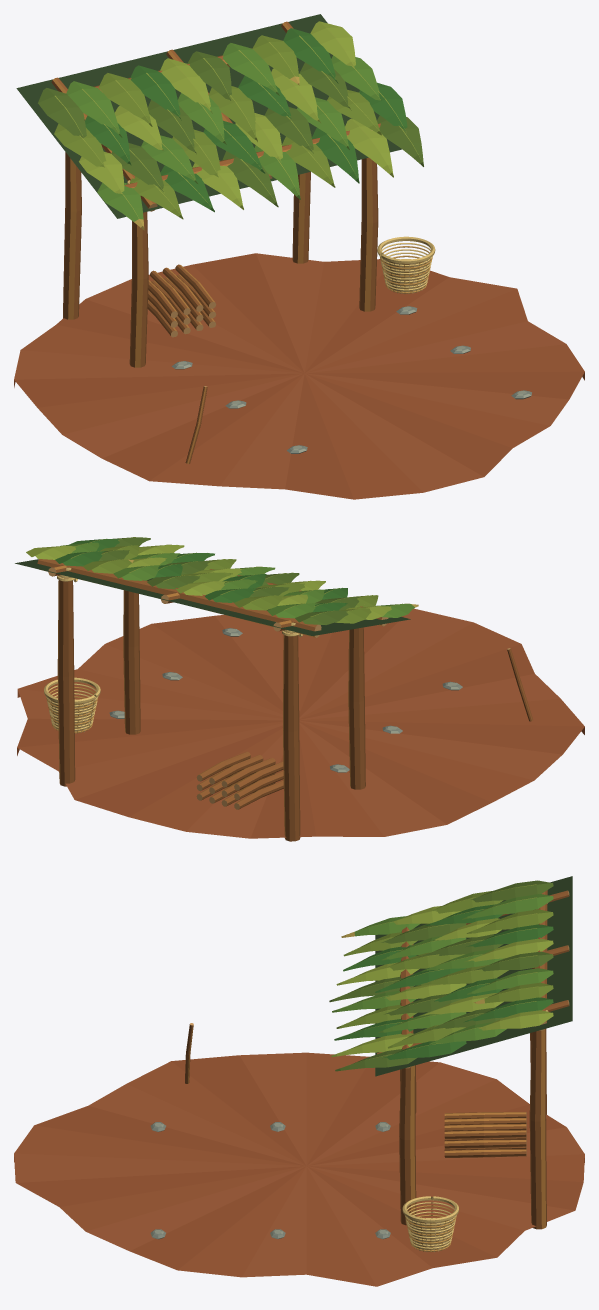
Rendered from centro_agricola_nivel_1.glb.
3 views of the same model, one above another, from view 1: azimuth 30°, elevation 25°; view 2: azimuth 150°, elevation 25°; view 3: azimuth 270°, elevation 25° (orthographic). The views are drawn at different scales.
Visible parts, largest first — view 1: Oca_TerraClara.003, Oca_Terra.003, Oca_TerraEscura.003, Oca_Madeira.006, Oca_FolhaMusgo.012, Oca_FolhaVerde.012, Oca_FolhaJade.027, Oca_FolhaLima.012, Oca_FolhaOliva.012, Oca_Forro.006, Oca_MadeiraClara.006, Oca_Nervuras.012 (+2 smaller); view 2: Oca_Terra.003, Oca_TerraClara.003, Oca_TerraEscura.003, Oca_Madeira.006, Oca_FolhaMusgo.012, Oca_FolhaOliva.012, Oca_FolhaJade.027, Oca_FolhaVerde.012, Oca_FolhaLima.012, Oca_Forro.006, Oca_MadeiraClara.006, Oca_Fibras.006 (+5 smaller); view 3: Oca_Terra.003, Oca_TerraClara.003, Oca_TerraEscura.003, Oca_Madeira.006, Oca_FolhaVerde.012, Oca_FolhaMusgo.012, Oca_FolhaLima.012, Oca_FolhaJade.027, Oca_FolhaOliva.012, Oca_Forro.006, Oca_MadeiraClara.006, Oca_Fibras.006 (+2 smaller).
Boxes of the visible parts, left/top/right/bottom form: Oca_TerraClara.003: left=14, top=253, right=569, bottom=492; Oca_Terra.003: left=21, top=259, right=584, bottom=499; Oca_TerraEscura.003: left=14, top=253, right=584, bottom=499; Oca_Madeira.006: left=51, top=21, right=380, bottom=463; Oca_FolhaMusgo.012: left=38, top=51, right=423, bottom=207; Oca_FolhaVerde.012: left=66, top=43, right=380, bottom=221; Oca_FolhaJade.027: left=85, top=28, right=407, bottom=212; Oca_FolhaLima.012: left=79, top=21, right=393, bottom=209; Oca_FolhaOliva.012: left=54, top=35, right=381, bottom=219; Oca_Forro.006: left=16, top=14, right=401, bottom=218; Oca_MadeiraClara.006: left=53, top=22, right=379, bottom=463; Oca_Nervuras.012: left=55, top=28, right=420, bottom=223; Oca_Terra.003: left=17, top=622, right=584, bottom=836; Oca_TerraClara.003: left=17, top=608, right=562, bottom=838; Oca_TerraEscura.003: left=17, top=615, right=584, bottom=838; Oca_Madeira.006: left=37, top=559, right=532, bottom=841; Oca_FolhaMusgo.012: left=99, top=537, right=359, bottom=624; Oca_FolhaOliva.012: left=82, top=545, right=378, bottom=623; Oca_FolhaJade.027: left=55, top=539, right=347, bottom=612; Oca_FolhaVerde.012: left=60, top=542, right=414, bottom=618; Oca_FolhaLima.012: left=26, top=545, right=391, bottom=619; Oca_Forro.006: left=15, top=559, right=410, bottom=635; Oca_MadeiraClara.006: left=40, top=565, right=528, bottom=839; Oca_Fibras.006: left=44, top=567, right=302, bottom=732; Oca_Terra.003: left=14, top=1052, right=584, bottom=1286; Oca_TerraClara.003: left=14, top=1052, right=584, bottom=1286; Oca_TerraEscura.003: left=14, top=1055, right=584, bottom=1270; Oca_Madeira.006: left=185, top=890, right=569, bottom=1229; Oca_FolhaVerde.012: left=332, top=894, right=553, bottom=1044; Oca_FolhaMusgo.012: left=329, top=880, right=553, bottom=1071; Oca_FolhaLima.012: left=331, top=906, right=553, bottom=1056; Oca_FolhaJade.027: left=334, top=904, right=553, bottom=1059; Oca_FolhaOliva.012: left=336, top=891, right=553, bottom=1048; Oca_Forro.006: left=375, top=876, right=572, bottom=1076; Oca_MadeiraClara.006: left=188, top=909, right=545, bottom=1228; Oca_Fibras.006: left=402, top=903, right=548, bottom=1251.
Size of the model in its own units: 5.8 by 2.67 by 5.97.
